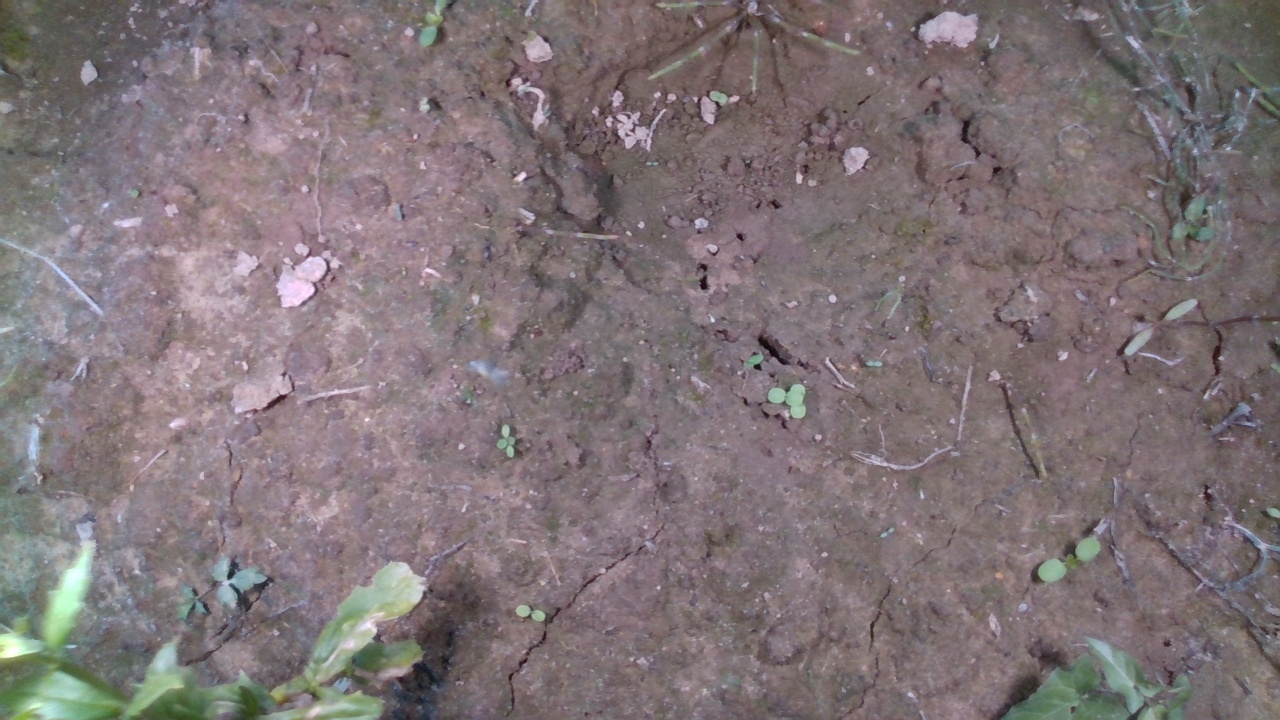weed: (1122, 296, 1196, 358), (1035, 536, 1103, 587), (485, 420, 519, 461), (510, 599, 551, 622)
